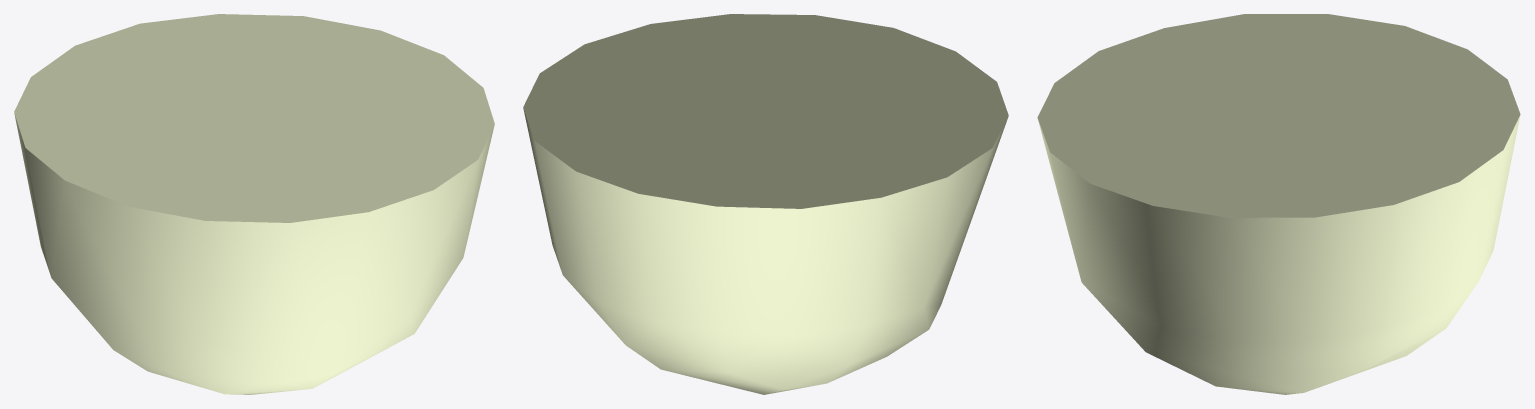
The model's file is FP_kiwi_half.FBX.
3 views of the same model, side by side, from view 1: azimuth 30°, elevation 25°; view 2: azimuth 150°, elevation 25°; view 3: azimuth 270°, elevation 25° (orthographic).
Visible parts, largest first — view 1: FP_kiwi_half; view 2: FP_kiwi_half; view 3: FP_kiwi_half.
Part boxes in pixels (box(x1,y1,x2,y2)): FP_kiwi_half: box(14, 14, 494, 394); FP_kiwi_half: box(523, 14, 1008, 394); FP_kiwi_half: box(1037, 14, 1520, 394).
Bounding box in the file's own units: 3.36 × 2.2 × 3.39.
